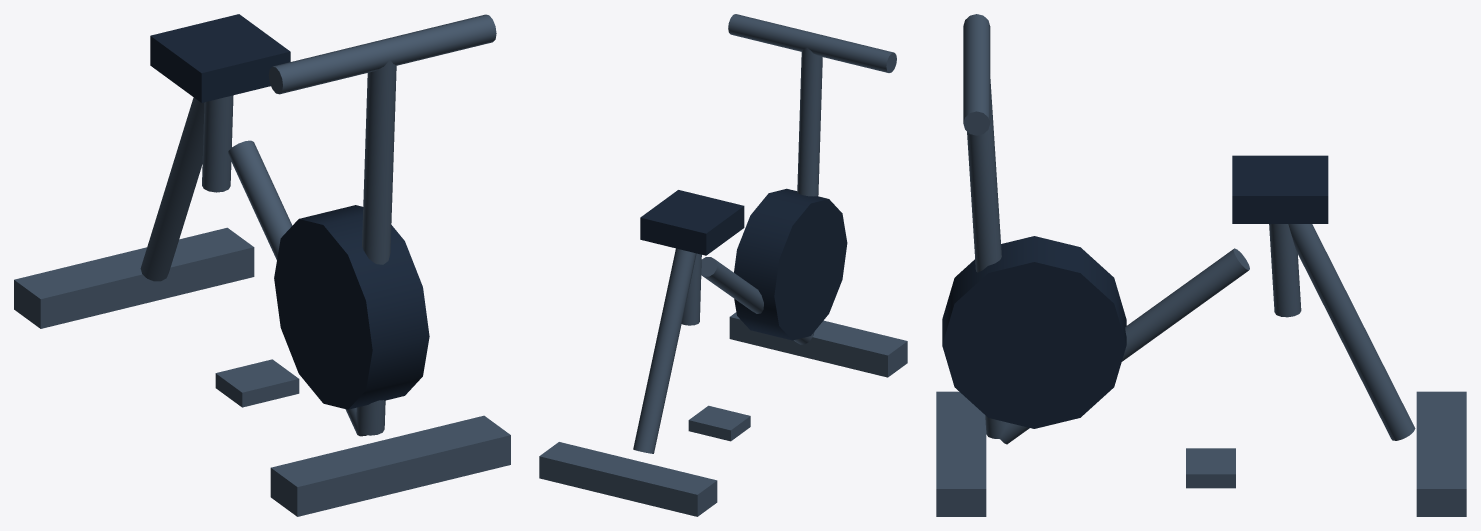
The model's file is bikeerg.glb.
3 renders of one model, left to right at view 1: azimuth 30°, elevation 25°; view 2: azimuth 150°, elevation 25°; view 3: azimuth 270°, elevation 25°, orthographic. The views are drawn at different scales.
Parts seen in each view (by area): view 1: base (×2), fan, saddle, frame (×2), handle, handlePost, Lpedal, saddlePost; view 2: fan, base (×2), frame (×2), saddle, handle, handlePost, Lpedal, saddlePost; view 3: fan, base (×2), frame (×2), saddle, handlePost, handle, saddlePost, Lpedal.
Boxes of the visible parts, x1=… form: base (×2): x1=14, y1=227, x2=510, y2=516; fan: x1=274, y1=205, x2=429, y2=409; saddle: x1=150, y1=14, x2=290, y2=102; frame (×2): x1=140, y1=97, x2=366, y2=436; handle: x1=268, y1=14, x2=496, y2=94; handlePost: x1=356, y1=60, x2=396, y2=435; Lpedal: x1=215, y1=359, x2=299, y2=407; saddlePost: x1=202, y1=95, x2=233, y2=192; fan: x1=734, y1=188, x2=847, y2=340; base (×2): x1=539, y1=312, x2=907, y2=516; frame (×2): x1=633, y1=248, x2=812, y2=453; saddle: x1=640, y1=190, x2=744, y2=255; handle: x1=728, y1=14, x2=896, y2=72; handlePost: x1=797, y1=47, x2=822, y2=336; Lpedal: x1=688, y1=405, x2=750, y2=441; saddlePost: x1=681, y1=253, x2=701, y2=325; fan: x1=942, y1=236, x2=1126, y2=428; base (×2): x1=936, y1=391, x2=1466, y2=516; frame (×2): x1=1000, y1=224, x2=1415, y2=444; saddle: x1=1232, y1=155, x2=1328, y2=223; handlePost: x1=967, y1=74, x2=1007, y2=438; handle: x1=963, y1=14, x2=990, y2=135; saddlePost: x1=1269, y1=224, x2=1301, y2=317; Lpedal: x1=1186, y1=448, x2=1235, y2=488.
Size of the model in its own units: 0.6 by 1.18 by 1.38.
